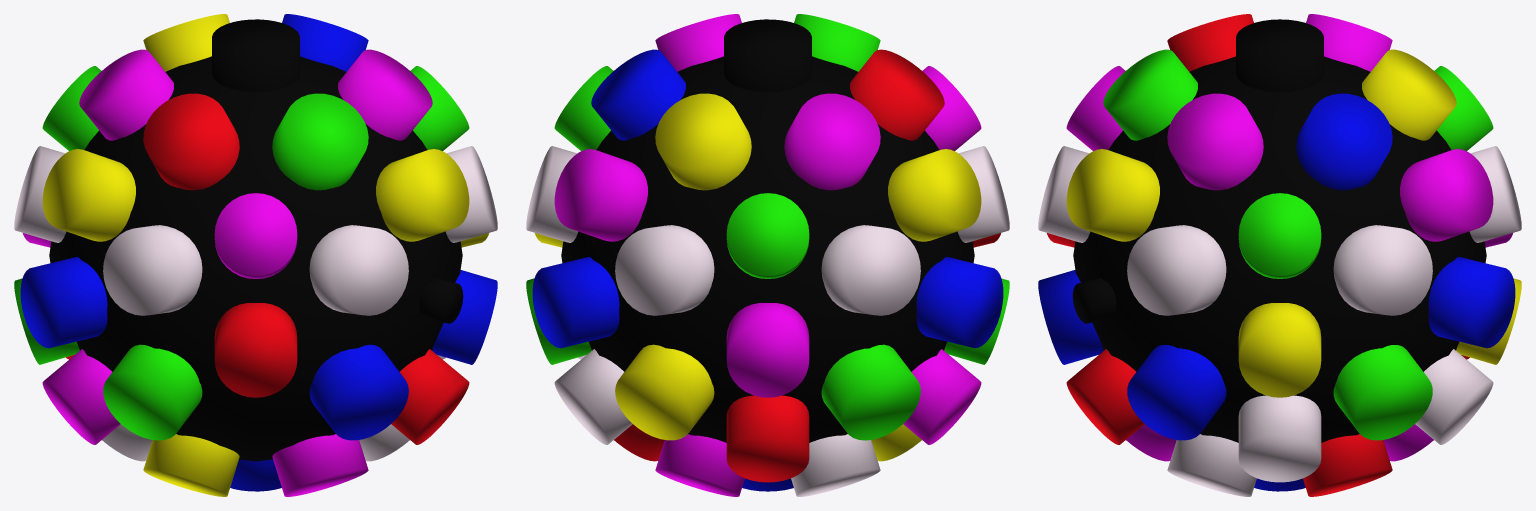
File: party2.fbx
3 renders of one model, left to right at view 1: azimuth 30°, elevation 25°; view 2: azimuth 150°, elevation 25°; view 3: azimuth 270°, elevation 25°, orthographic.
Visible parts, largest first — view 1: Sphere, Cylinder.017, Cylinder.042, Cylinder.032, Cylinder.009, Cylinder.018, Cylinder.043, Cylinder.120, Cylinder.020, Cylinder.058, Cylinder.060, Cylinder.050 (+19 smaller); view 2: Sphere, Cylinder.029, Cylinder.040, Cylinder.030, Cylinder.041, Cylinder.028, Cylinder.039, Cylinder.012, Cylinder.058, Cylinder.128, Cylinder.014, Cylinder.060 (+19 smaller); view 3: Sphere, Cylinder.034, Cylinder.048, Cylinder.033, Cylinder.049, Cylinder.035, Cylinder.047, Cylinder.081, Cylinder.020, Cylinder.128, Cylinder.083, Cylinder.130 (+19 smaller).
Boxes of the visible parts, x1,y1,x2,y2 form: Sphere: (49, 56, 462, 461); Cylinder.017: (309, 225, 408, 315); Cylinder.042: (103, 225, 202, 315); Cylinder.032: (143, 93, 239, 190); Cylinder.009: (272, 93, 368, 190); Cylinder.018: (309, 344, 408, 440); Cylinder.043: (103, 344, 202, 440); Cylinder.120: (214, 303, 297, 397); Cylinder.020: (376, 149, 469, 241); Cylinder.058: (42, 149, 135, 241); Cylinder.060: (20, 257, 107, 348); Cylinder.050: (212, 19, 299, 91); Sphere: (561, 56, 974, 442); Cylinder.029: (615, 225, 714, 315); Cylinder.040: (821, 225, 920, 315); Cylinder.030: (655, 93, 751, 190); Cylinder.041: (784, 93, 880, 190); Cylinder.028: (615, 344, 714, 440); Cylinder.039: (821, 344, 920, 440); Cylinder.012: (726, 303, 809, 397); Cylinder.058: (888, 149, 981, 241); Cylinder.128: (554, 149, 647, 241); Cylinder.014: (726, 395, 809, 482); Cylinder.060: (916, 257, 1003, 348); Sphere: (1073, 56, 1486, 442); Cylinder.034: (1127, 225, 1226, 315); Cylinder.048: (1333, 225, 1432, 315); Cylinder.033: (1167, 93, 1263, 190); Cylinder.049: (1296, 93, 1392, 190); Cylinder.035: (1127, 345, 1226, 440); Cylinder.047: (1333, 345, 1432, 440); Cylinder.081: (1238, 303, 1321, 397); Cylinder.020: (1066, 149, 1159, 241); Cylinder.128: (1400, 149, 1493, 241); Cylinder.083: (1238, 395, 1321, 482); Cylinder.130: (1428, 257, 1515, 348).
Size of the model in its own units: 240 by 232 by 234.
